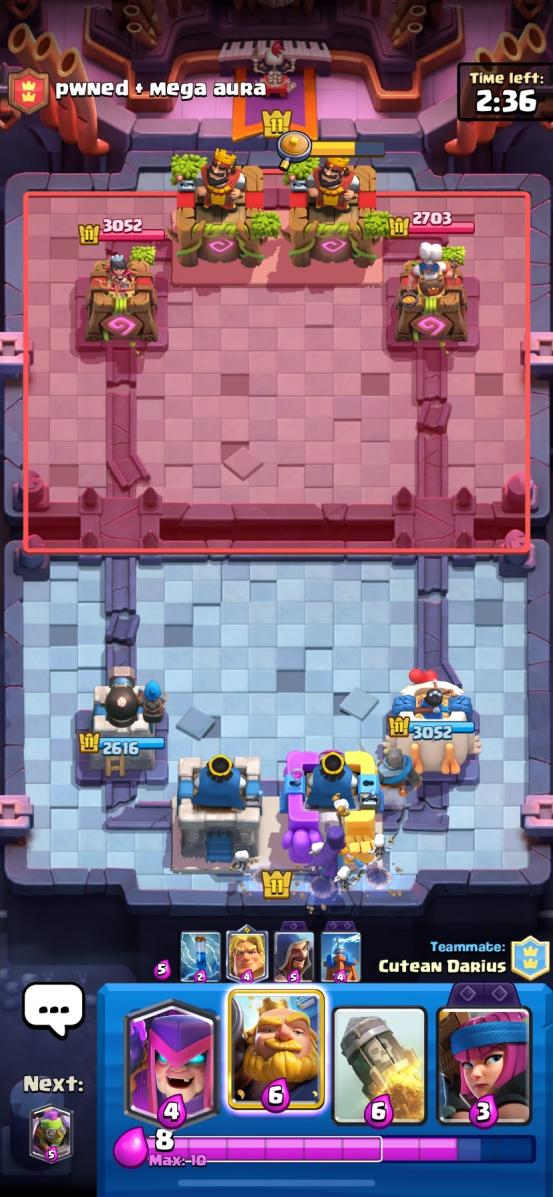EKingTower: (171, 149, 278, 268), (283, 752, 383, 871), (289, 156, 380, 268)
EnemyPanTower: (394, 242, 467, 345)
EnemyPrincessTower: (84, 246, 157, 343)
OCannoneerTower: (78, 666, 165, 778)
OKnight: (378, 747, 412, 796)
OLarry: (334, 865, 356, 894), (232, 851, 254, 877), (374, 835, 388, 860)
OWitch: (316, 826, 344, 879)
OwnKingTower: (176, 753, 262, 866)
OwnPrincessTower: (392, 669, 478, 774)
